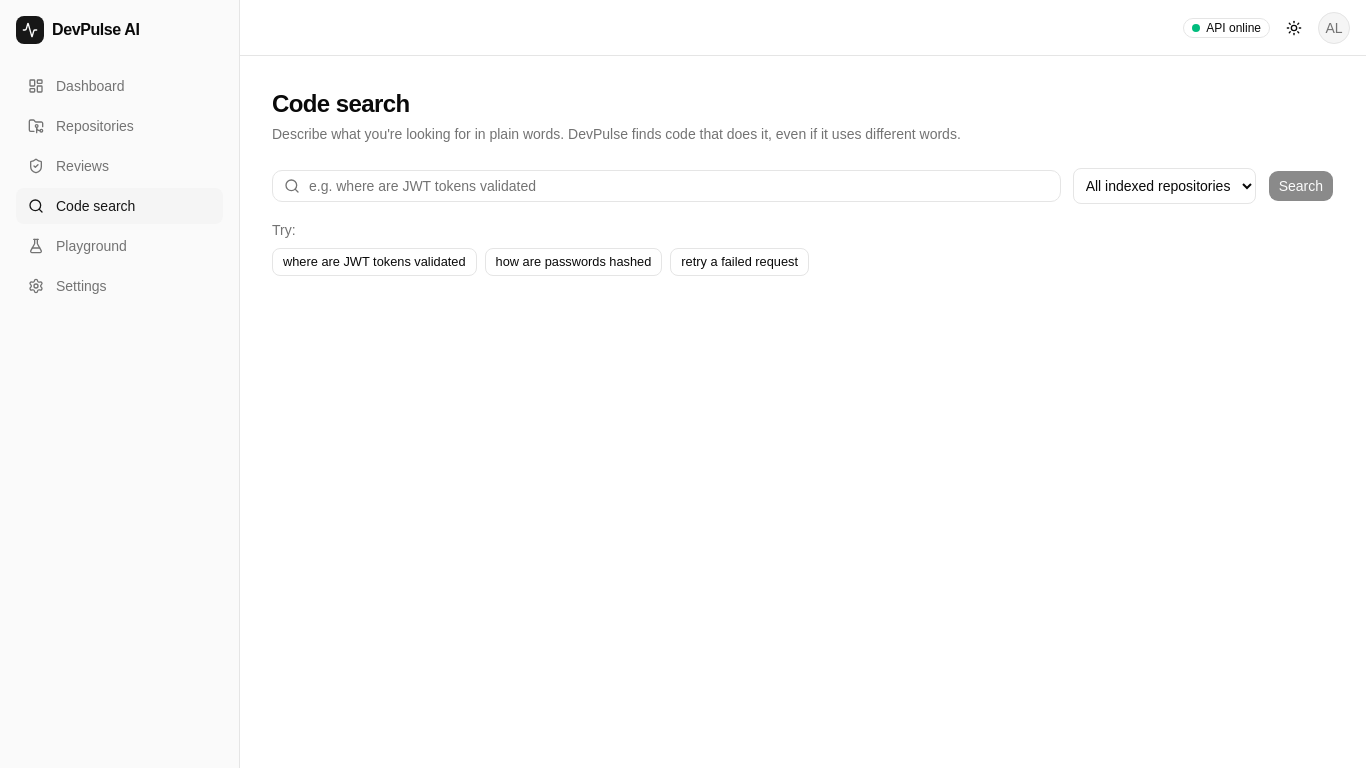
Test case: Code search page › can search one repository, and offers examples
The width and height of the screenshot is (1366, 768).
Select "ada/backend" in the dropdown named "Repository" at (1164, 186), box [1073,168,1256,204]
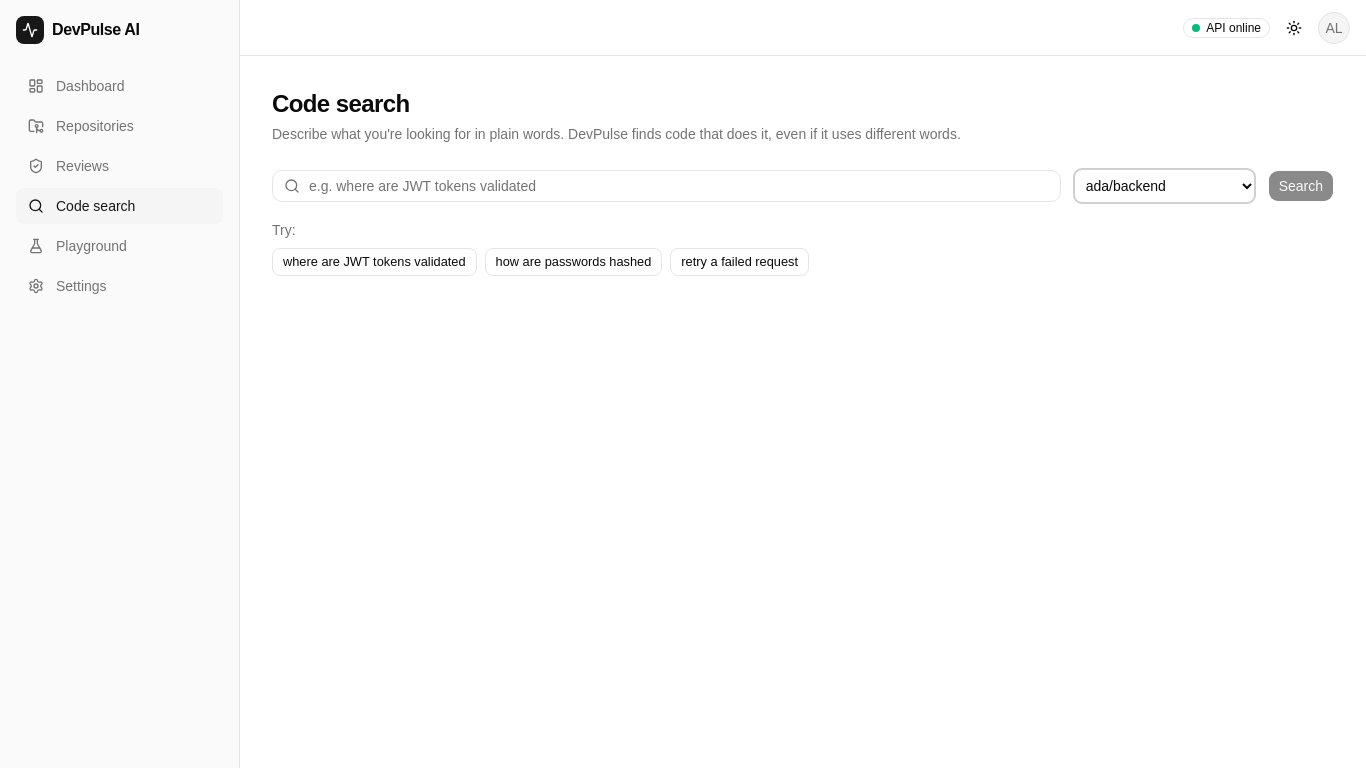
Click the button "how are passwords hashed" at (574, 262), box [485,248,662,276]
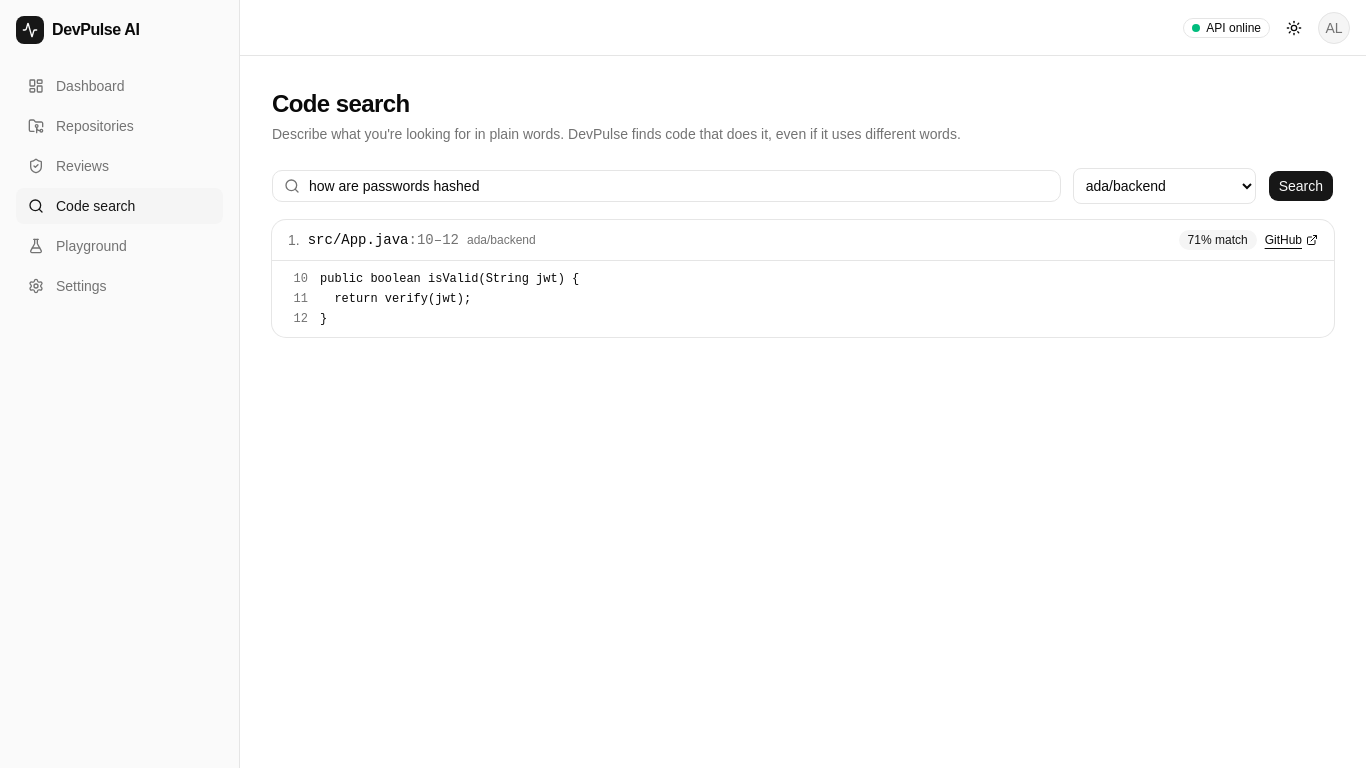
Result: the list named "Results" is shown at [272,220,1334,337]
